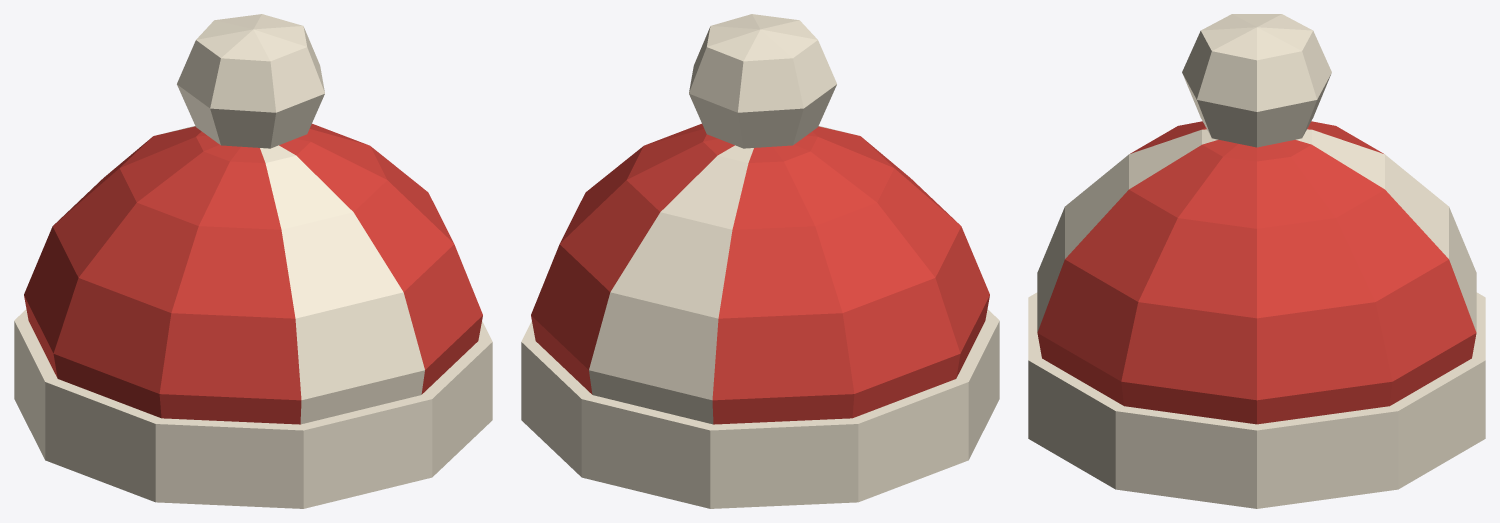
The model's file is hat.glb.
3 renders of one model, left to right at view 1: azimuth 30°, elevation 25°; view 2: azimuth 150°, elevation 25°; view 3: azimuth 270°, elevation 25°, orthographic.
Parts seen in each view (by area): view 1: hat; view 2: hat; view 3: hat.
Boxes of the visible parts, bbox=[...] form: hat: bbox=[14, 14, 492, 508]; hat: bbox=[521, 14, 999, 508]; hat: bbox=[1028, 14, 1485, 508].
Size of the model in its own units: 0.25 by 0.218 by 0.2378.
Materials: 1 (1 with a texture image).
